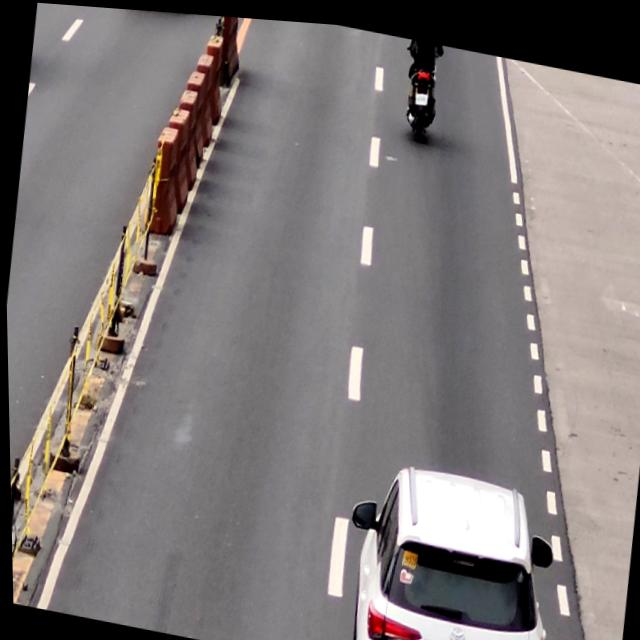Car: (328, 447, 565, 640)
License-Plate: (414, 86, 427, 99)
Motorcycle: (400, 32, 444, 136)
